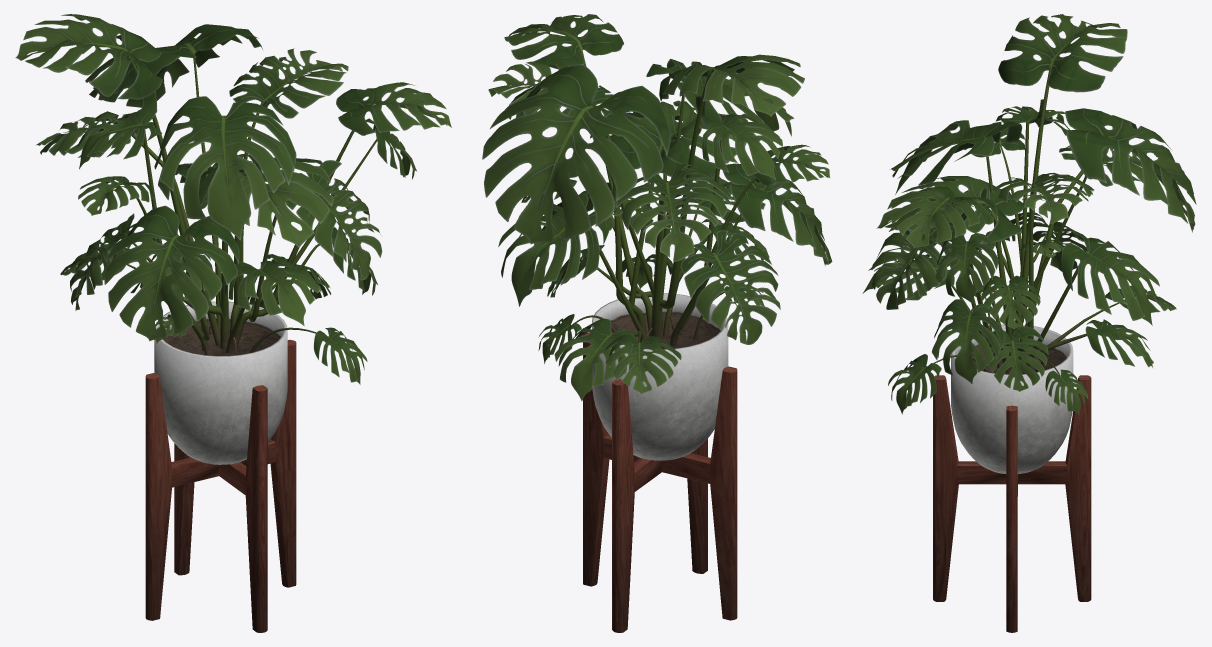
File: indoor_planter.glb
3 views of the same model, side by side, from view 1: azimuth 30°, elevation 25°; view 2: azimuth 150°, elevation 25°; view 3: azimuth 270°, elevation 25° (orthographic). The views are drawn at different scales.
Parts seen in each view (by area): view 1: Leaves_Mat_1_0, Stand_Mat_0, Pot_LP_Mat_0, root_HP_1_Mat_2_0; view 2: Leaves_Mat_1_0, Stand_Mat_0, Pot_LP_Mat_0, root_HP_1_Mat_2_0; view 3: Leaves_Mat_1_0, Stand_Mat_0, Pot_LP_Mat_0, root_HP_1_Mat_2_0.
Boxes of the visible parts, box(x1,y1,x2,y2) form: Leaves_Mat_1_0: box(15, 14, 451, 384); Stand_Mat_0: box(145, 339, 296, 632); Pot_LP_Mat_0: box(154, 301, 287, 464); root_HP_1_Mat_2_0: box(124, 53, 376, 355); Leaves_Mat_1_0: box(482, 14, 832, 400); Stand_Mat_0: box(583, 332, 737, 632); Pot_LP_Mat_0: box(592, 293, 728, 460); root_HP_1_Mat_2_0: box(559, 50, 756, 346); Leaves_Mat_1_0: box(862, 14, 1196, 414); Stand_Mat_0: box(933, 375, 1091, 632); Pot_LP_Mat_0: box(951, 324, 1073, 473); root_HP_1_Mat_2_0: box(933, 68, 1124, 375).
Size of the model in its own units: 0.8695 by 1.36 by 0.7911.
3 materials, 3 textured.
